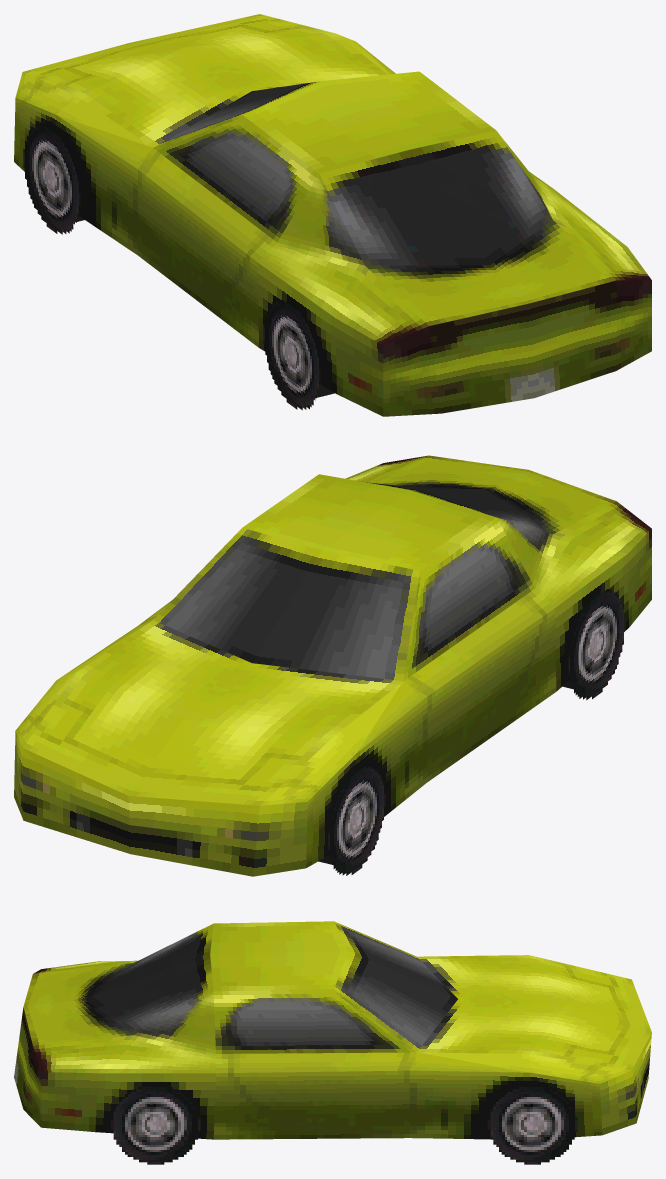
The model's file is car-mrx7.glb.
3 views of the same model, one above another, from view 1: azimuth 30°, elevation 25°; view 2: azimuth 150°, elevation 25°; view 3: azimuth 270°, elevation 25° (orthographic). The views are drawn at different scales.
Parts seen in each view (by area): view 1: car-mrx7; view 2: car-mrx7; view 3: car-mrx7.
Boxes of the visible parts, left/top/right/bottom form: car-mrx7: left=14, top=14, right=651, bottom=416; car-mrx7: left=14, top=455, right=651, bottom=876; car-mrx7: left=14, top=921, right=651, bottom=1164.
Bounding box in the file's own units: 1.83 × 1.13 × 4.22.
32 materials, 32 textured.
